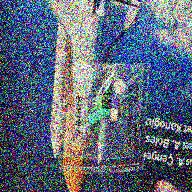러키펜정: (114, 79, 126, 97)
씨엠지세파클러캡슐: (110, 92, 119, 123)
에르도캡슐: (88, 108, 111, 126)
휴티렌정: (96, 90, 111, 108)
